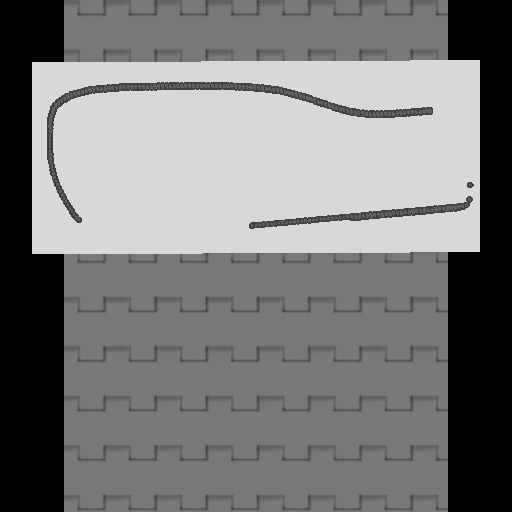Defect: (81, 198, 249, 239)
